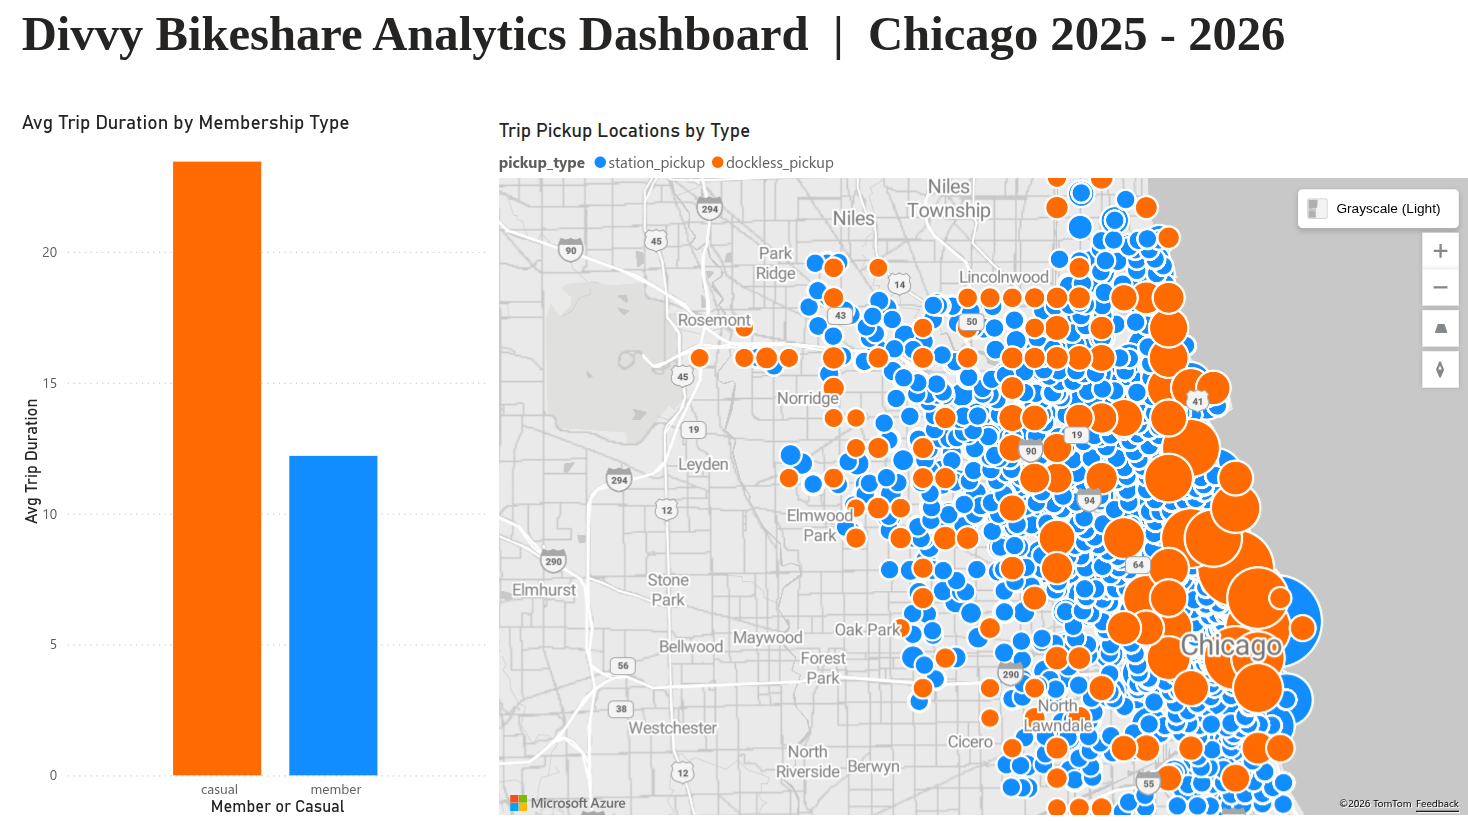

Layout of this report page (visuals, bound fields, positions):
{"tool":"powerbi","page":{"name":"Page 1","canvas":[1280,720],"ordinal":0},"visuals":[{"type":"clusteredColumnChart","title":"Avg Trip Duration by Membership Type","fields":{"Category":["membership_behaviour_tile.member_casual"],"Y":["Avg(membership_behaviour_tile.avg_trip_duration_minutes)"]},"box":[0,100,418,620],"z":0},{"type":"azureMap","title":"Trip Pickup Locations by Type","fields":{"Y":["operational_map_tile.latitude"],"X":["operational_map_tile.longitude"],"Size":["Sum(operational_map_tile.trip_count)"],"Series":["operational_map_tile.pickup_type"]},"box":[418,107,862,613],"z":1},{"type":"textbox","box":[0,0,1280,92],"z":2}]}

Visuals, with their boxes in screenshot pixels (x1, y1, x2, y2), scaled from the page's 1280x720 canvas onto the 1468x821 screenshot:
"Avg Trip Duration by Membership Type" clusteredColumnChart: (0,114,479,820)
"Trip Pickup Locations by Type" azureMap: (479,122,1467,820)
textbox: (0,0,1467,105)
